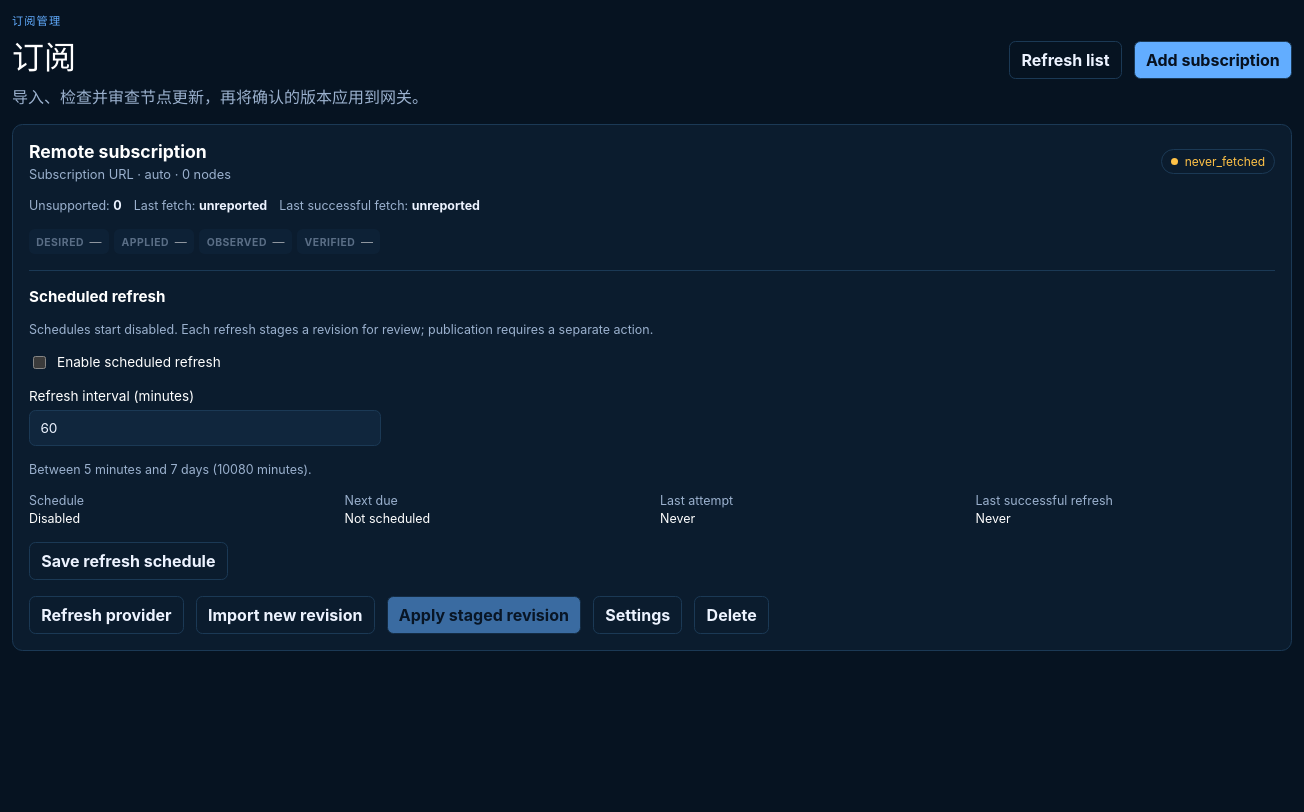
Test case: subscription refresh schedules › uses server eligibility for a redacted URL and saves a staged-only schedule with the read revision
Step 1. Click the checkbox labelled "Enable scheduled refresh" → (40, 362), box [33,356,46,369]
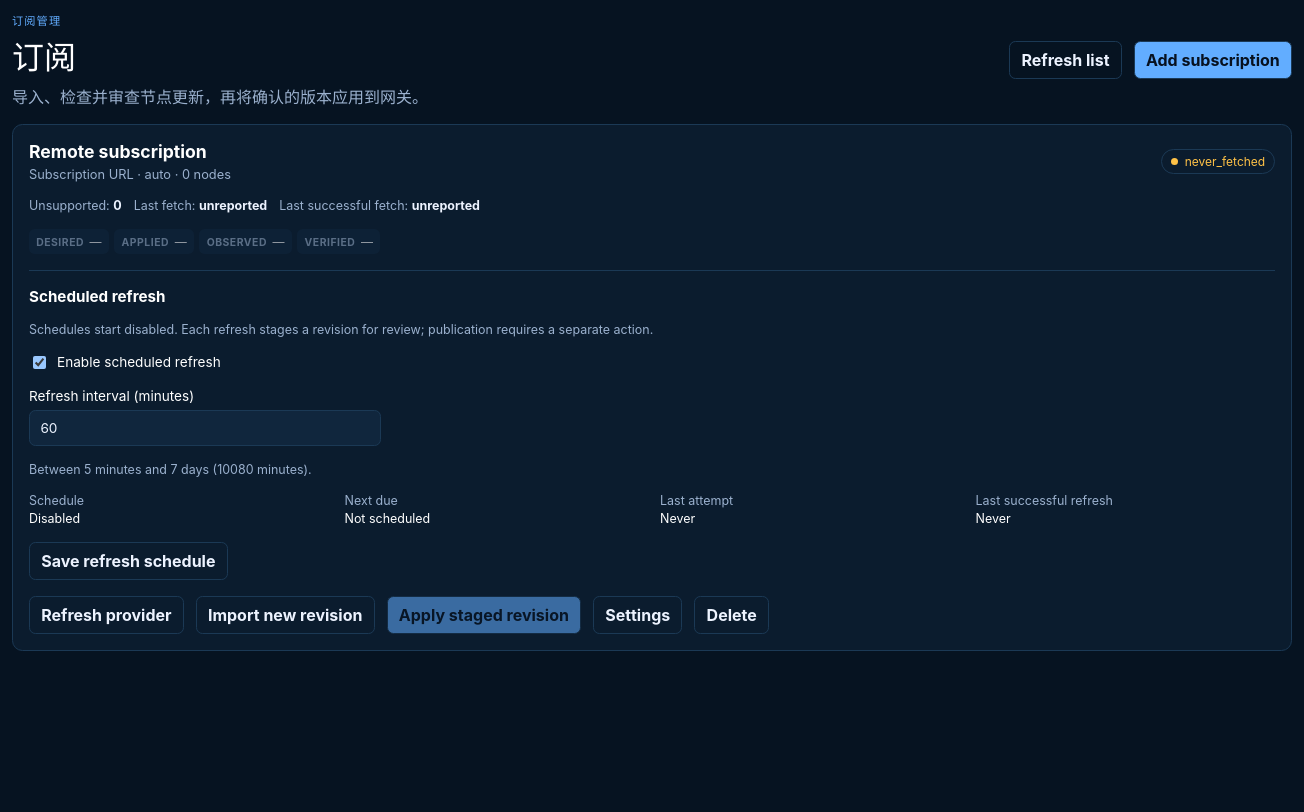
Step 2. Replace the text in the number field labelled "Refresh interval (minutes)" with "15" → (205, 428), box [29,410,381,446]
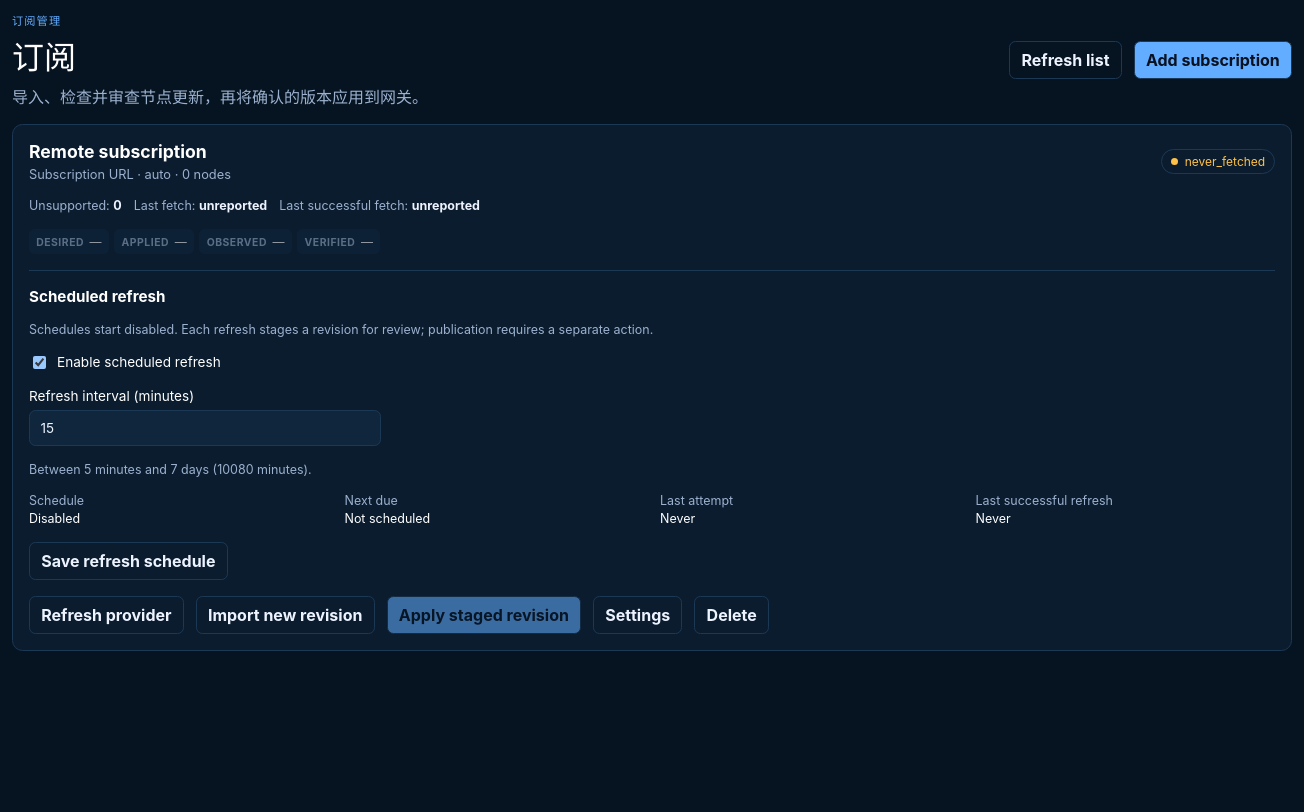
Step 3. Submit the form named "Refresh schedule for Remote subscription", box [29,270,1275,580]
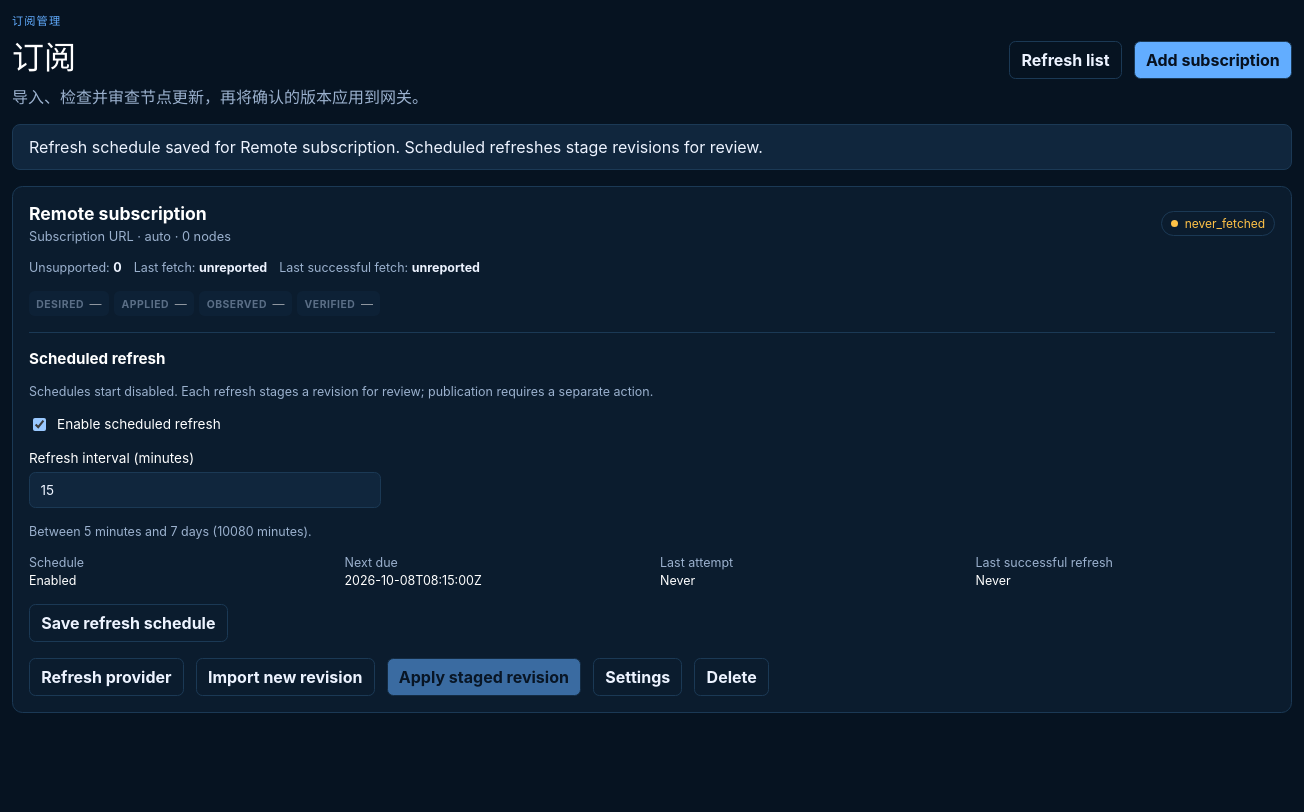
Expected: the text "2026-10-08T08:15:00Z" is shown, [344,573,482,588]
Expected: the text "Refresh schedule saved" is shown, [29,137,763,157]
